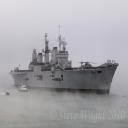Portanaves: (9, 24, 120, 98)
